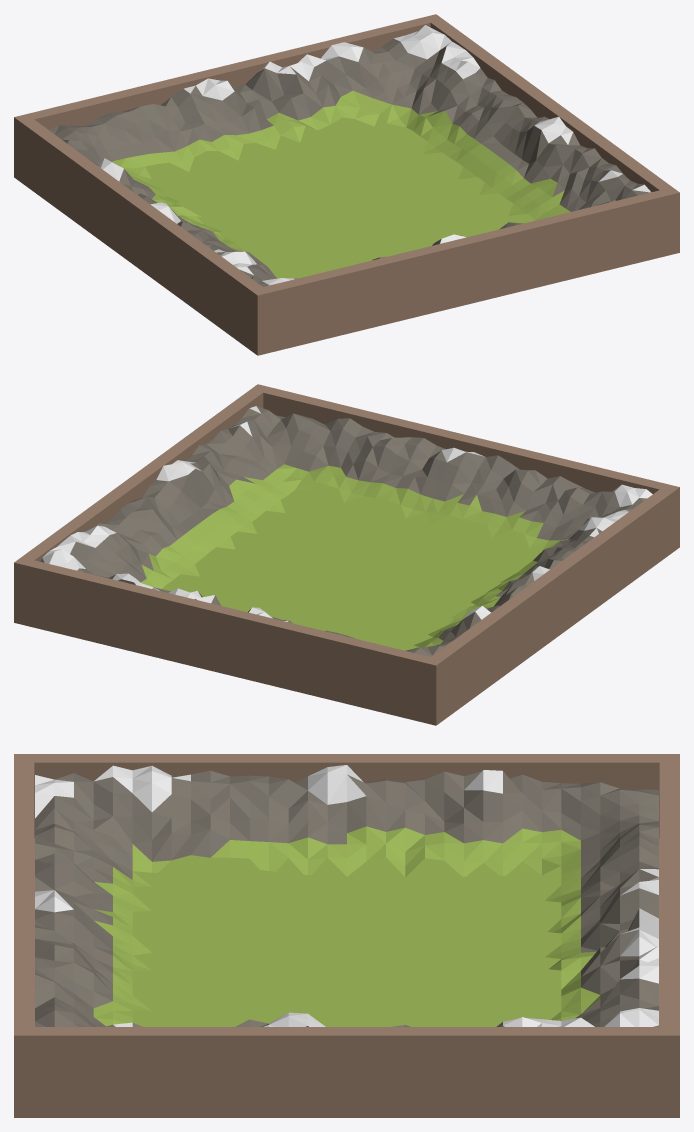
File: world.gltf
3 views of the same model, one above another, from view 1: azimuth 30°, elevation 25°; view 2: azimuth 150°, elevation 25°; view 3: azimuth 270°, elevation 25° (orthographic). The views are drawn at different scales.
Parts seen in each view (by area): view 1: world_surface, world_box; view 2: world_surface, world_box; view 3: world_surface, world_box.
Part boxes in pixels (<box>): world_surface: <box>48,25,650,286</box>; world_box: <box>14,14,679,355</box>; world_surface: <box>40,406,652,656</box>; world_box: <box>14,384,679,725</box>; world_surface: <box>35,765,658,1026</box>; world_box: <box>14,754,679,1117</box>.
Size of the model in its own units: 3.2 by 0.4825 by 3.2.
